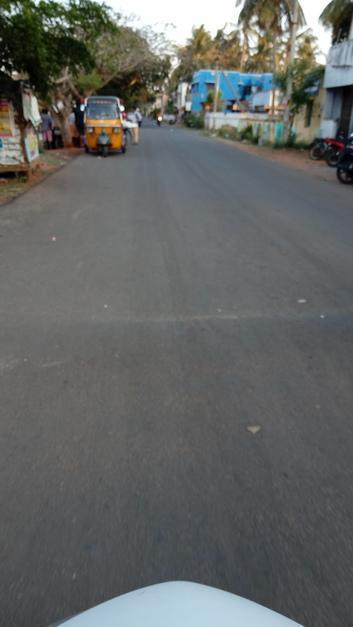speedbreaker: (0, 306, 353, 385)
